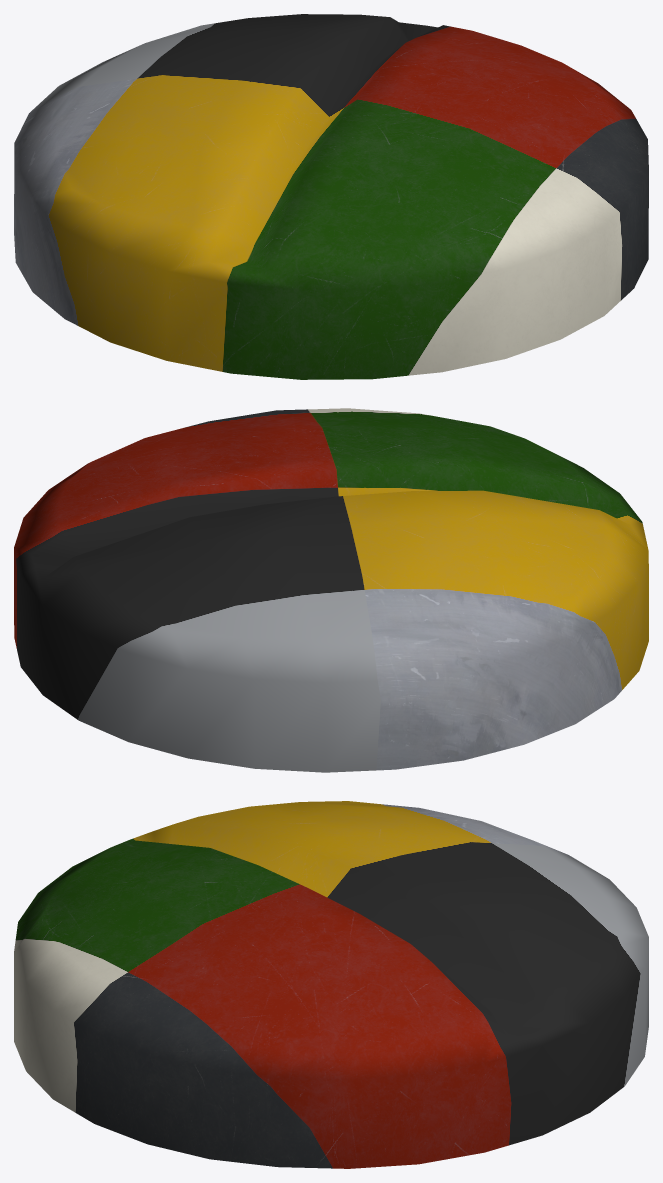
Rendered from Screw.fbx.
3 renders of one model, top to bottom at view 1: azimuth 30°, elevation 25°; view 2: azimuth 150°, elevation 25°; view 3: azimuth 270°, elevation 25°, orthographic.
Visible parts, largest first — view 1: ScrewForQuest; view 2: ScrewForQuest; view 3: ScrewForQuest.
Boxes of the visible parts, bbox=[...] form: ScrewForQuest: bbox=[14, 14, 648, 379]; ScrewForQuest: bbox=[14, 408, 648, 772]; ScrewForQuest: bbox=[14, 801, 648, 1168].
Size of the model in its own units: 2.79 by 0.7588 by 2.79.
